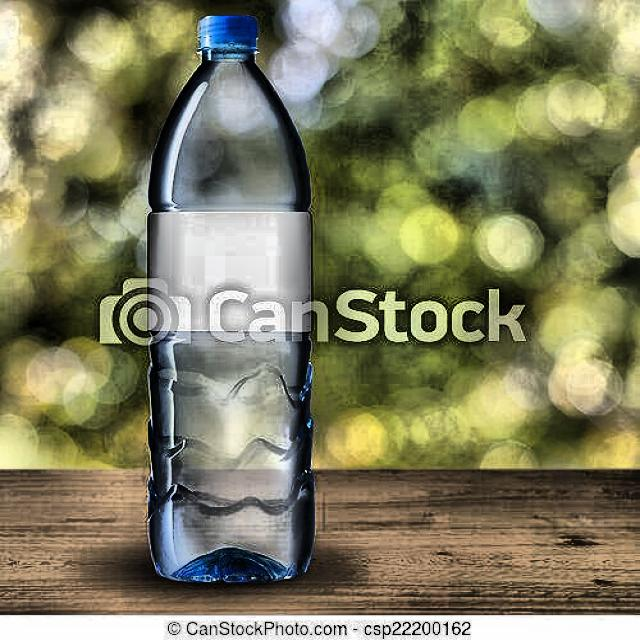Bottles: (128, 3, 335, 601)
